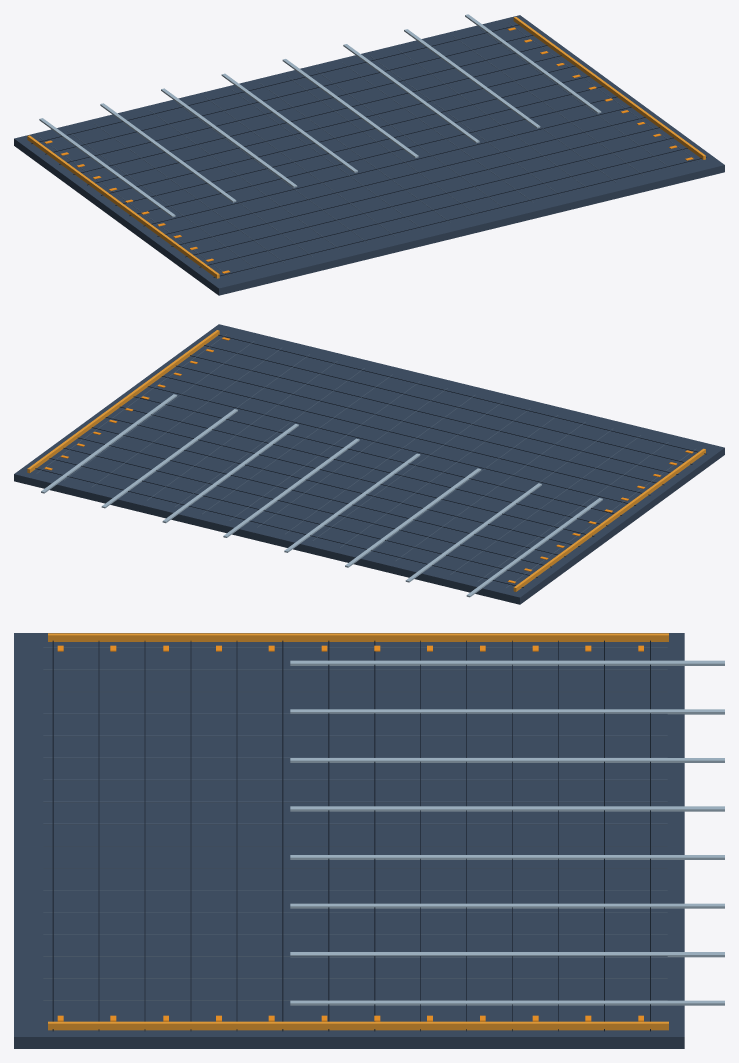
File: 00_L88_HabitatAtmosphereQualificationArenaBase.fbx
The picture shows the model from 3 angles, top to bottom: view 1: azimuth 30°, elevation 25°; view 2: azimuth 150°, elevation 25°; view 3: azimuth 270°, elevation 25°; orthographic projection. The views are drawn at different scales.
Parts seen in each view (by area): view 1: L87_HabitatAtmosphereQualificationArenaB_Part_0000, L87_HabitatAtmosphereQualificationArenaB_Part_0002, L87_HabitatAtmosphereQualificationArenaB_Part_0006, L87_HabitatAtmosphereQualificationArenaB_Part_0001, L87_HabitatAtmosphereQualificationArenaB_Part_0003; view 2: L87_HabitatAtmosphereQualificationArenaB_Part_0000, L87_HabitatAtmosphereQualificationArenaB_Part_0002, L87_HabitatAtmosphereQualificationArenaB_Part_0006, L87_HabitatAtmosphereQualificationArenaB_Part_0001, L87_HabitatAtmosphereQualificationArenaB_Part_0003; view 3: L87_HabitatAtmosphereQualificationArenaB_Part_0000, L87_HabitatAtmosphereQualificationArenaB_Part_0006, L87_HabitatAtmosphereQualificationArenaB_Part_0001, L87_HabitatAtmosphereQualificationArenaB_Part_0003, L87_HabitatAtmosphereQualificationArenaB_Part_0002, L87_HabitatAtmosphereQualificationArenaB_Part_0004.
Boxes of the visible parts, x1,y1,x2,y2 form: L87_HabitatAtmosphereQualificationArenaB_Part_0000: (14, 15, 724, 295); L87_HabitatAtmosphereQualificationArenaB_Part_0002: (31, 24, 706, 277); L87_HabitatAtmosphereQualificationArenaB_Part_0006: (39, 14, 601, 217); L87_HabitatAtmosphereQualificationArenaB_Part_0001: (39, 22, 698, 276); L87_HabitatAtmosphereQualificationArenaB_Part_0003: (27, 17, 705, 278); L87_HabitatAtmosphereQualificationArenaB_Part_0000: (14, 324, 724, 604); L87_HabitatAtmosphereQualificationArenaB_Part_0002: (35, 334, 706, 587); L87_HabitatAtmosphereQualificationArenaB_Part_0006: (41, 394, 602, 597); L87_HabitatAtmosphereQualificationArenaB_Part_0001: (36, 334, 695, 588); L87_HabitatAtmosphereQualificationArenaB_Part_0003: (27, 330, 705, 591); L87_HabitatAtmosphereQualificationArenaB_Part_0000: (14, 633, 684, 1048); L87_HabitatAtmosphereQualificationArenaB_Part_0006: (290, 660, 724, 1005); L87_HabitatAtmosphereQualificationArenaB_Part_0001: (43, 647, 667, 1022); L87_HabitatAtmosphereQualificationArenaB_Part_0003: (48, 633, 668, 1030); L87_HabitatAtmosphereQualificationArenaB_Part_0002: (52, 640, 650, 1031); L87_HabitatAtmosphereQualificationArenaB_Part_0004: (57, 645, 643, 1021).
Size of the model in its own units: 3080 by 65 by 2290.
